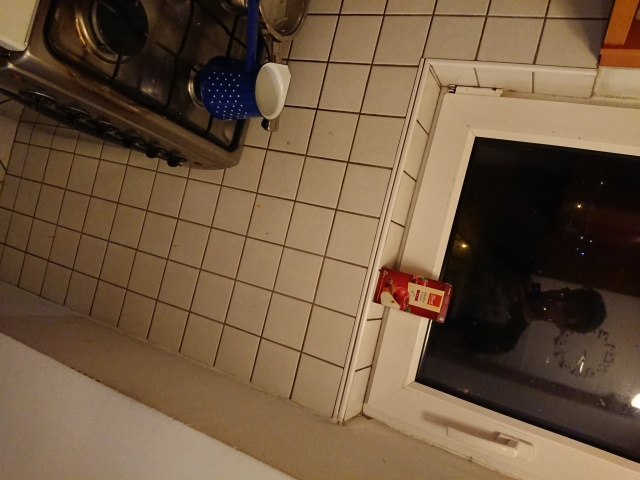Franck Apple Cinnamon Tea 60g: (369, 263, 455, 326)
